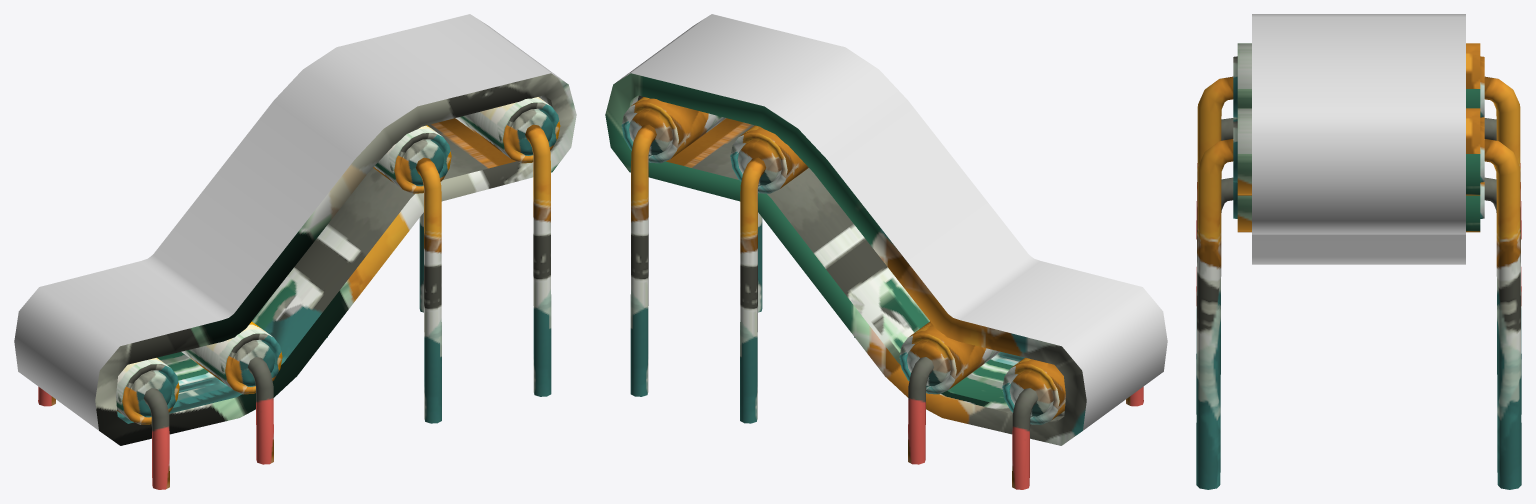
File: MountedTallConveyorBelt.fbx
3 views of the same model, side by side, from view 1: azimuth 30°, elevation 25°; view 2: azimuth 150°, elevation 25°; view 3: azimuth 270°, elevation 25° (orthographic). The views are drawn at different scales.
Visible parts, largest first — view 1: MountedTallConveyorBelt; view 2: MountedTallConveyorBelt; view 3: MountedTallConveyorBelt.
Part boxes in pixels (x1,y1,x2,y2): MountedTallConveyorBelt: (14, 14, 576, 489); MountedTallConveyorBelt: (605, 14, 1167, 489); MountedTallConveyorBelt: (1196, 14, 1521, 489).
Size of the model in its own units: 4.84 by 2.9 by 2.15.
